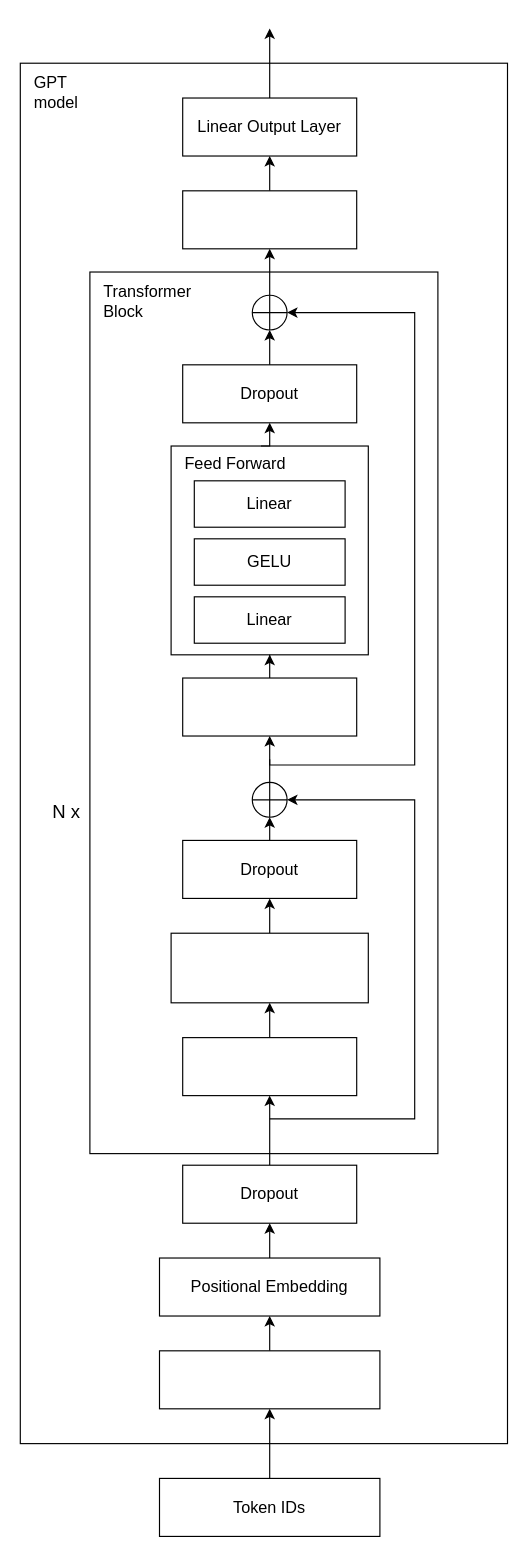
This 528x1557 diagram has some shape labels left out. The box of each missing label's shape, as (x1, y1, x2, y2) in pixels:
Final LayerNorm: (182, 190, 357, 249)
LayerNorm 1: (182, 1036, 357, 1096)
LayerNorm 2: (182, 677, 357, 736)
Masked Multi Head Attention: (170, 932, 368, 1003)
Token Embedding: (158, 1350, 380, 1409)
